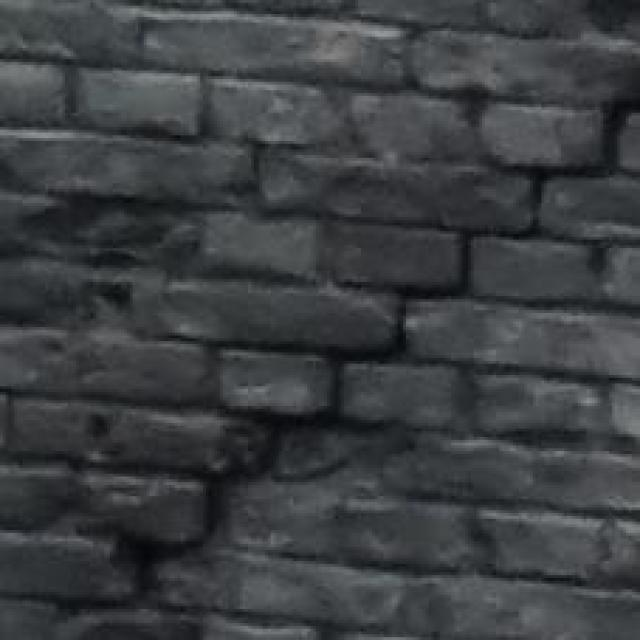Crack: (46, 92, 640, 640)
